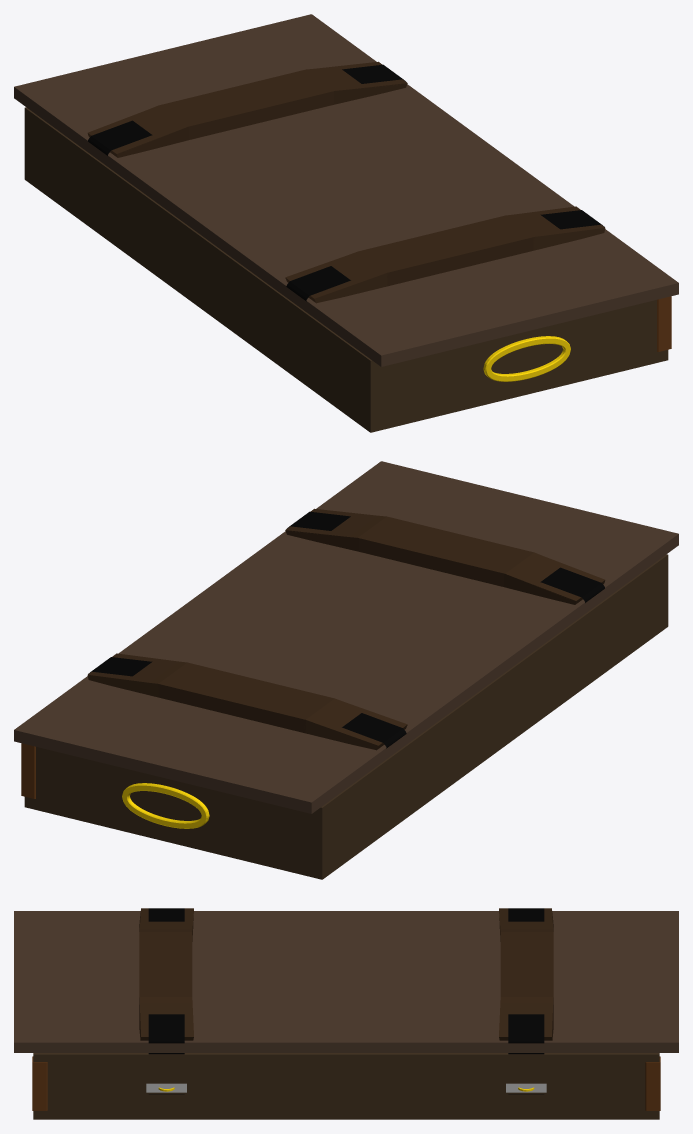
Rendered from ammobox.fbx.
3 renders of one model, top to bottom at view 1: azimuth 30°, elevation 25°; view 2: azimuth 150°, elevation 25°; view 3: azimuth 270°, elevation 25°, orthographic. The views are drawn at different scales.
Visible parts, largest first — view 1: Plane.001, Plane, Cube, Plane.002, Circle.003, Plane.005; view 2: Plane.001, Plane, Cube, Plane.002, Circle.002, Plane.005; view 3: Plane.001, Plane, Cube, Plane.002, Plane.005, Plane.004.
Boxes of the visible parts, <box> form: Plane.001: <box>14,14,678,366</box>; Plane: <box>24,107,668,432</box>; Cube: <box>87,61,605,303</box>; Plane.002: <box>88,64,604,301</box>; Circle.003: <box>483,336,570,381</box>; Plane.005: <box>657,296,671,351</box>; Plane.001: <box>14,461,678,813</box>; Plane: <box>24,554,668,879</box>; Cube: <box>87,508,605,750</box>; Plane.002: <box>88,511,604,748</box>; Circle.002: <box>122,783,209,828</box>; Plane.005: <box>21,743,35,798</box>; Plane.001: <box>14,911,678,1052</box>; Plane: <box>33,1053,659,1119</box>; Cube: <box>139,908,553,1040</box>; Plane.002: <box>148,908,544,1043</box>; Plane.005: <box>32,1056,660,1110</box>; Plane.004: <box>146,1083,546,1092</box>.
Size of the model in its own units: 204 by 63.4 by 427.
